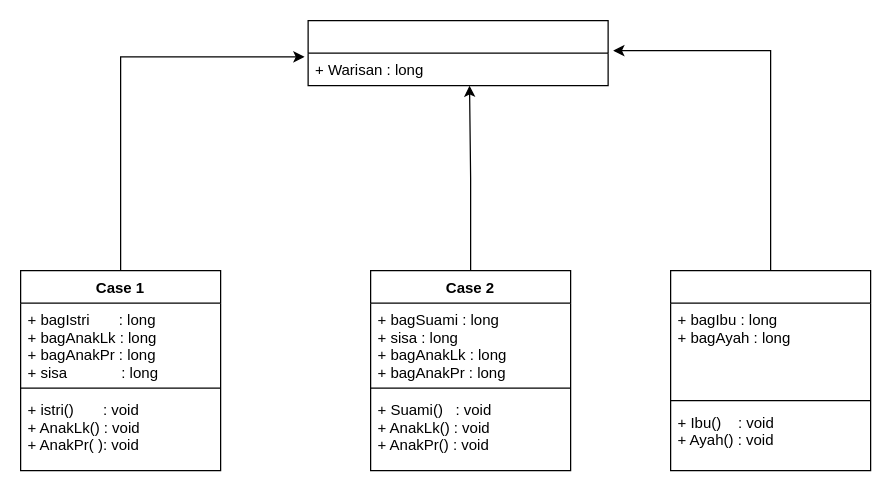
Image size: 891x491. Some labels were removed from this diagram. Here are the shapes that lost their labels. From the top down, the box of each, then its label:
(307, 19, 608, 86): Main Class
(669, 269, 871, 471): Case 3
